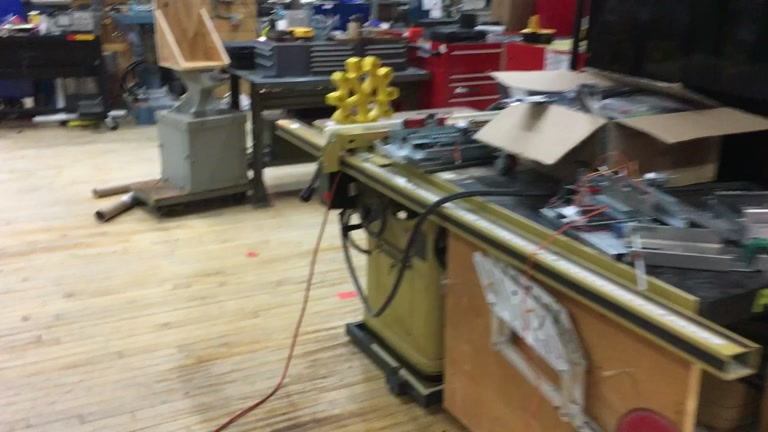gear: (324, 54, 399, 129)
